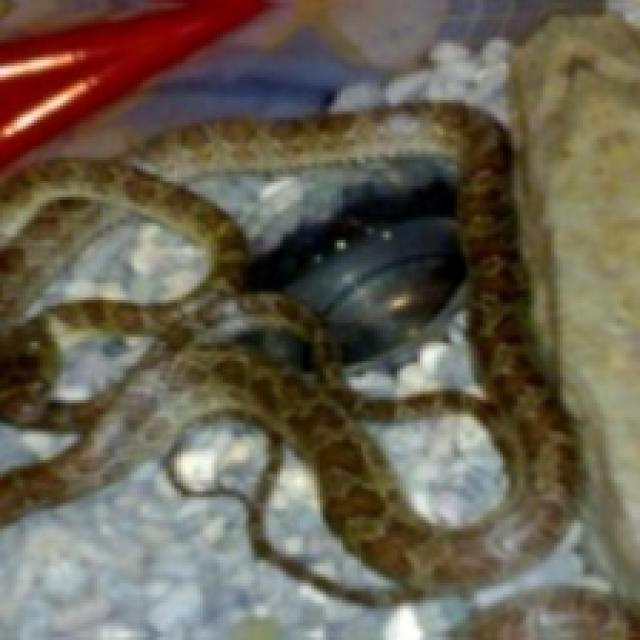mullers wolf snake: (0, 103, 574, 603), (360, 411, 506, 526), (263, 449, 380, 586), (340, 306, 483, 400), (63, 217, 209, 303), (174, 417, 266, 489)
